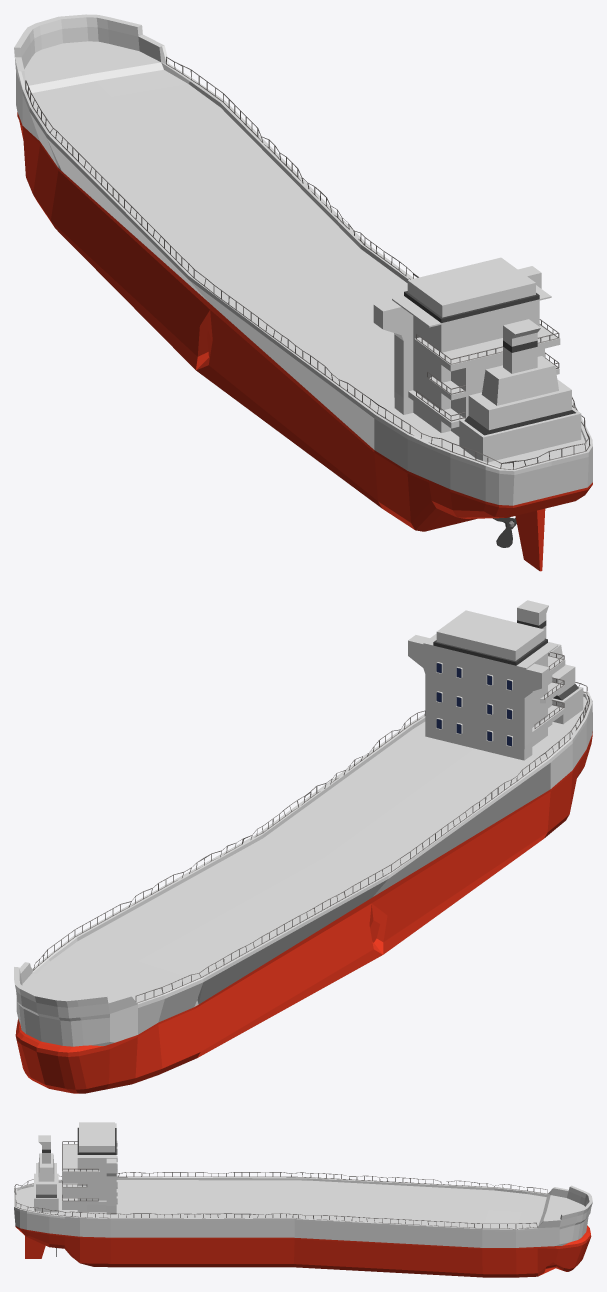
The model's file is BarcoQuebrado.fbx.
3 renders of one model, top to bottom at view 1: azimuth 30°, elevation 25°; view 2: azimuth 150°, elevation 25°; view 3: azimuth 270°, elevation 25°, orthographic. The views are drawn at different scales.
Parts seen in each view (by area): view 1: ContainerShip; view 2: ContainerShip; view 3: ContainerShip.
Part boxes in pixels (<box>): ContainerShip: <box>14,14,592,571</box>; ContainerShip: <box>14,600,592,1093</box>; ContainerShip: <box>14,1122,592,1277</box>.
Bounding box in the file's own units: 1746 × 1906 × 8049.
